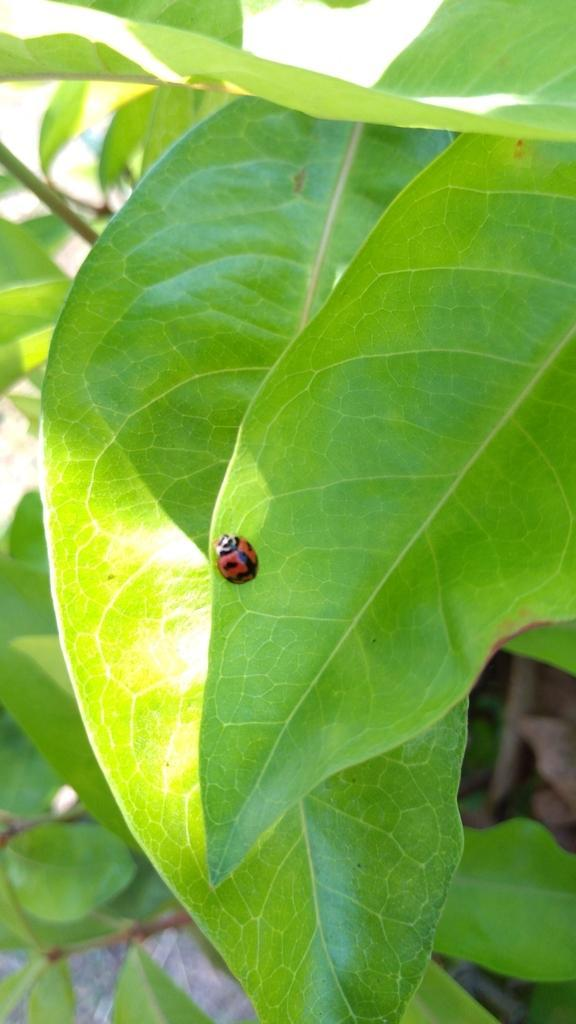ladybug: (216, 531, 264, 589)
